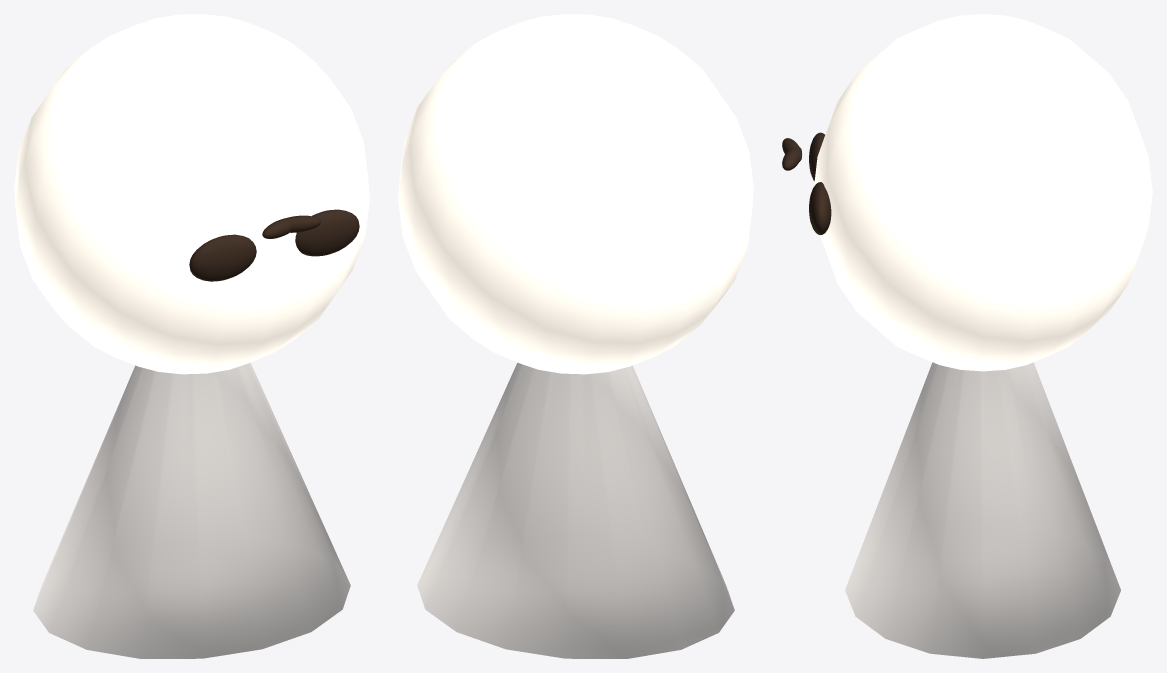
Rendered from ghost_cutter_v001.fbx.
3 renders of one model, left to right at view 1: azimuth 30°, elevation 25°; view 2: azimuth 150°, elevation 25°; view 3: azimuth 270°, elevation 25°, orthographic.
Parts seen in each view (by area): view 1: Cutter_Head, Cutter_Tail, Cutter_EyeL, Cutter_EyeR; view 2: Cutter_Head, Cutter_Tail; view 3: Cutter_Head, Cutter_Tail, Cutter_EyeR.
Boxes of the visible parts, x1,y1,x2,y2 form: Cutter_Head: [14, 14, 369, 374]; Cutter_Tail: [33, 362, 350, 658]; Cutter_EyeL: [189, 234, 256, 281]; Cutter_EyeR: [295, 209, 359, 256]; Cutter_Head: [398, 14, 753, 374]; Cutter_Tail: [417, 362, 734, 658]; Cutter_Head: [814, 14, 1152, 371]; Cutter_Tail: [845, 362, 1120, 658]; Cutter_EyeR: [809, 182, 831, 234].
Size of the model in its own units: 110 by 190 by 114.
